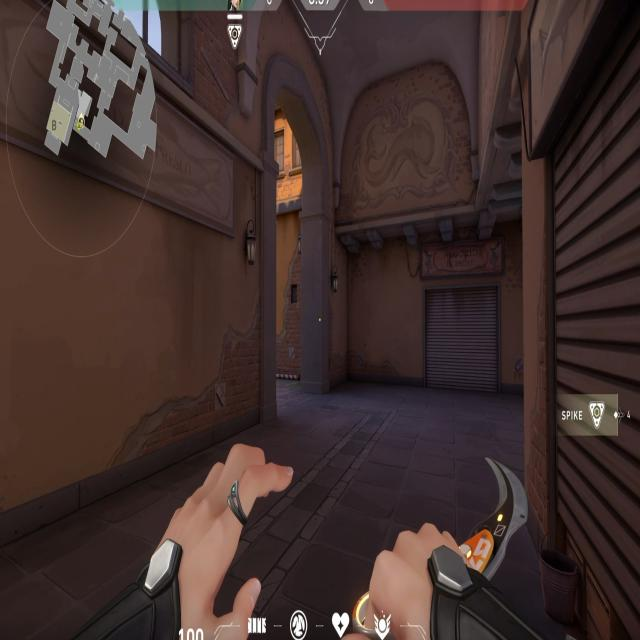B_Main_Corner: (508, 7, 640, 623)
